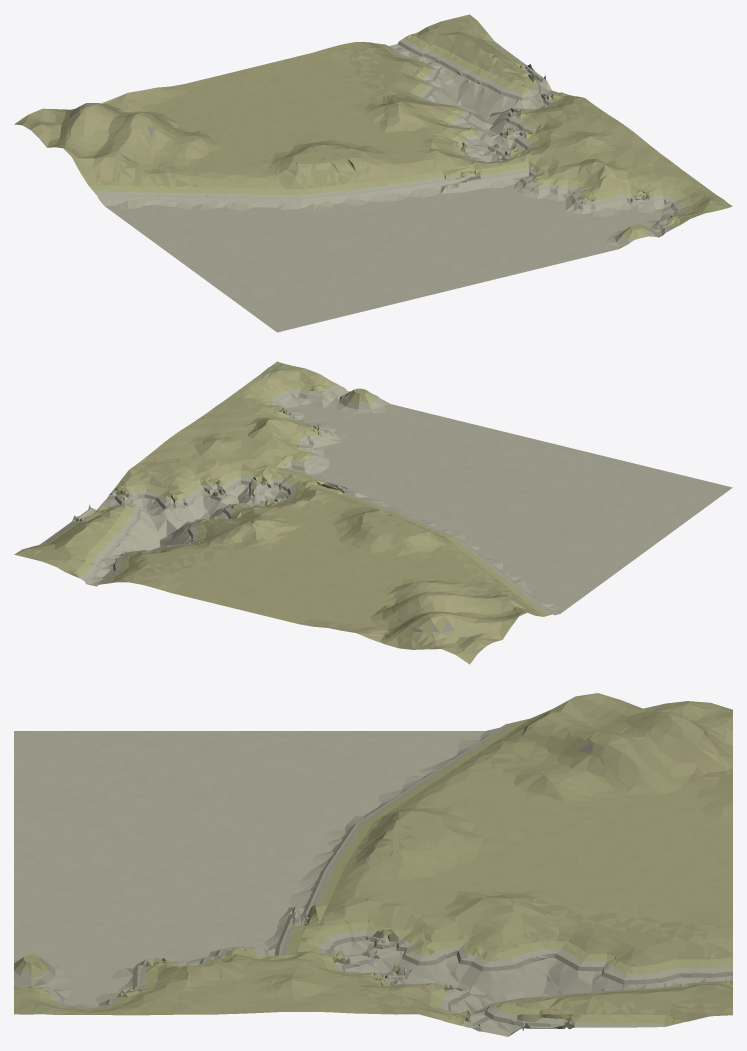
The model's file is Ground_-1_-1.glb.
3 views of the same model, one above another, from view 1: azimuth 30°, elevation 25°; view 2: azimuth 150°, elevation 25°; view 3: azimuth 270°, elevation 25° (orthographic). The views are drawn at different scales.
Visible parts, largest first — view 1: Ground_-1_-1; view 2: Ground_-1_-1; view 3: Ground_-1_-1.
Part boxes in pixels (x1,y1,x2,y2): Ground_-1_-1: (14,14,732,332); Ground_-1_-1: (14,361,732,664); Ground_-1_-1: (14,693,732,1036).
Bounding box in the file's own units: 768 × 81.69 × 768.
